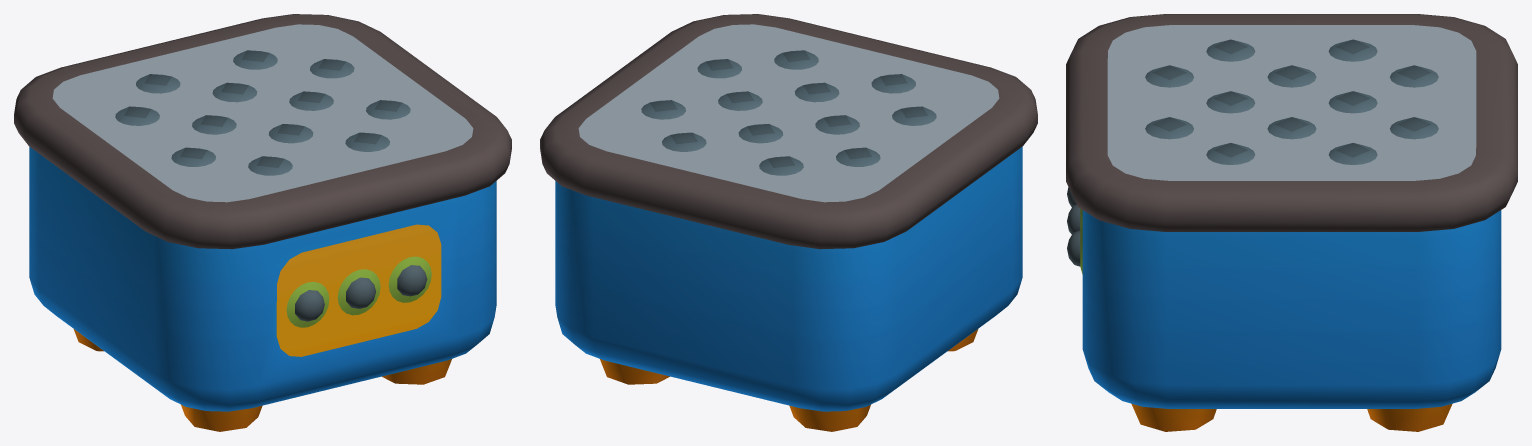
File: Grill_01.glb
The picture shows the model from 3 angles, left to right: view 1: azimuth 30°, elevation 25°; view 2: azimuth 150°, elevation 25°; view 3: azimuth 270°, elevation 25°; orthographic projection. The views are drawn at different scales.
Parts seen in each view (by area): view 1: Grill_01; view 2: Grill_01; view 3: Grill_01.
Part boxes in pixels (x1,y1,x2,y2): Grill_01: (14,14,511,431); Grill_01: (540,14,1037,431); Grill_01: (1066,14,1517,431).
Size of the model in its own units: 0.2968 by 0.1944 by 0.2968.
1 material, 1 textured.
